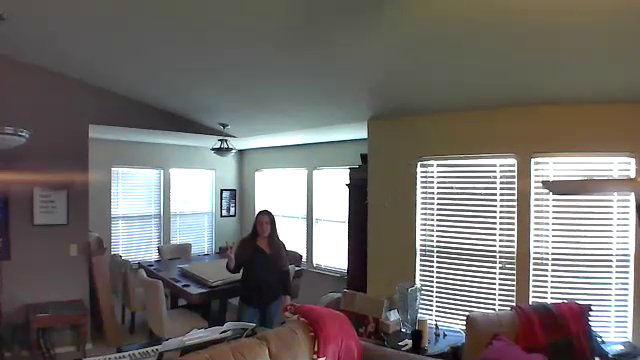peace: (219, 238, 242, 261)
